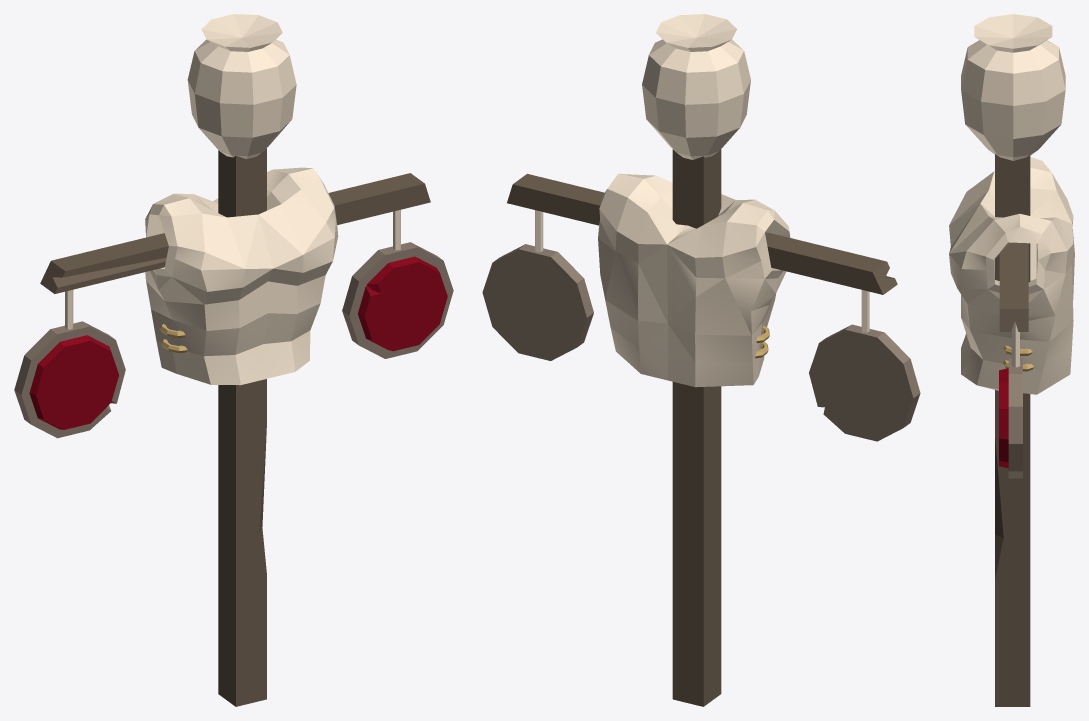
Rendered from _TARGET_2.fbx.
3 renders of one model, left to right at view 1: azimuth 30°, elevation 25°; view 2: azimuth 150°, elevation 25°; view 3: azimuth 270°, elevation 25°, orthographic.
Visible parts, largest first — view 1: TARGET_2; view 2: TARGET_2; view 3: TARGET_2.
Boxes of the visible parts, <box> form: TARGET_2: <box>14,14,453,706</box>; TARGET_2: <box>482,14,920,706</box>; TARGET_2: <box>949,14,1074,706</box>.
Bounding box in the file's own units: 139 × 205 × 35.07.
